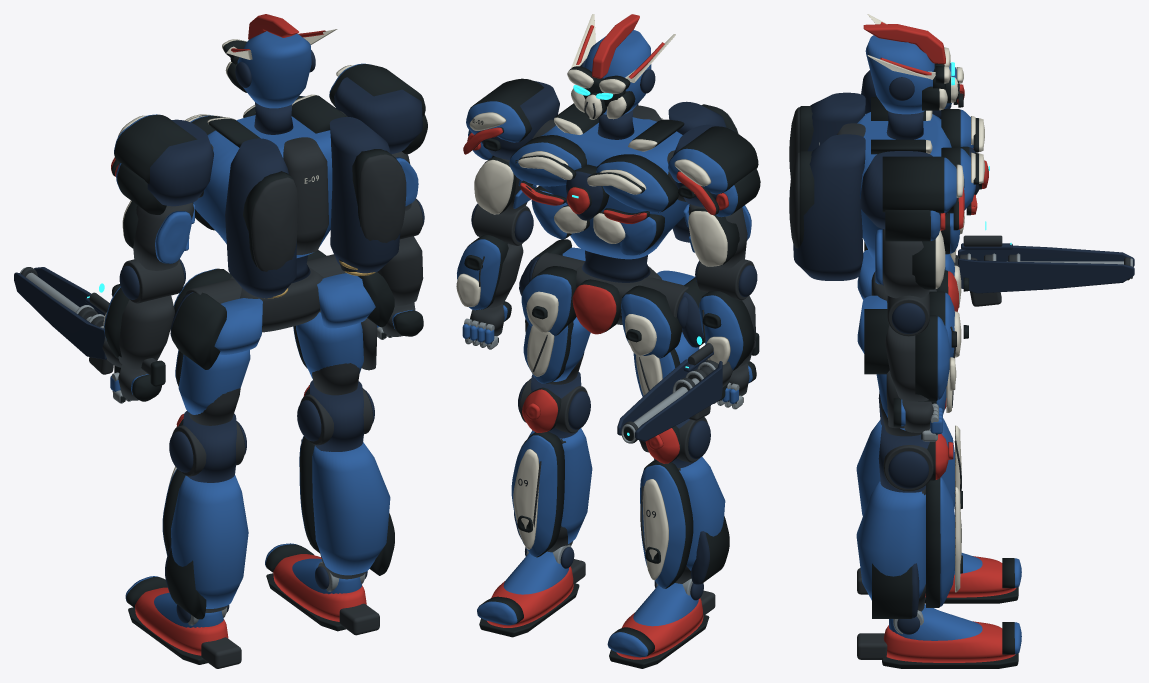
Rendered from Echo9_Hero_V8.glb.
3 views of the same model, side by side, from view 1: azimuth 30°, elevation 25°; view 2: azimuth 150°, elevation 25°; view 3: azimuth 270°, elevation 25° (orthographic). The views are drawn at different scales.
Visible parts, largest first — view 1: Armor_chest, Armor_shin_L, Armor_shin_R, Armor_forearm_R, Armor_shoulder_R, Armor_head, Armor_pelvis, Armor_foot_L, Armor_shoulder_L, Armor_foot_R, Armor_thigh_L, Armor_thigh_R (+7 smaller); view 2: Armor_chest, Armor_shin_R, Armor_shin_L, Armor_forearm_R, Armor_head, Armor_shoulder_R, Armor_foot_L, Armor_foot_R, Armor_forearm_L, Armor_shoulder_L, Armor_pelvis, Armor_skirt_R (+7 smaller); view 3: Armor_chest, Armor_shin_L, Armor_forearm_R, Armor_shoulder_L, Armor_head, Armor_foot_L, Armor_forearm_L, Armor_upper_arm_L, Armor_foot_R, Armor_skirt_L, Armor_shin_R, Armor_pelvis (+3 smaller).
Part boxes in pixels (x1,y1,x2,y2): Armor_chest: [184, 94, 406, 298]; Armor_shin_L: [297, 380, 394, 579]; Armor_shin_R: [162, 411, 248, 619]; Armor_forearm_R: [14, 259, 185, 386]; Armor_shoulder_R: [111, 114, 213, 214]; Armor_head: [222, 14, 337, 134]; Armor_pelvis: [214, 255, 375, 354]; Armor_foot_L: [265, 543, 379, 635]; Armor_shoulder_L: [329, 63, 427, 154]; Armor_foot_R: [125, 576, 241, 668]; Armor_thigh_L: [293, 254, 377, 395]; Armor_thigh_R: [175, 279, 250, 425]; Armor_chest: [509, 101, 738, 259]; Armor_shin_R: [639, 417, 729, 588]; Armor_shin_L: [511, 372, 592, 557]; Armor_forearm_R: [617, 259, 759, 443]; Armor_head: [567, 14, 675, 139]; Armor_shoulder_R: [668, 124, 760, 217]; Armor_foot_L: [477, 544, 585, 637]; Armor_foot_R: [607, 578, 715, 668]; Armor_forearm_L: [456, 203, 533, 310]; Armor_shoulder_L: [463, 78, 559, 159]; Armor_pelvis: [562, 247, 694, 334]; Armor_skirt_R: [621, 277, 707, 358]; Armor_chest: [789, 92, 989, 280]; Armor_shin_L: [856, 424, 962, 618]; Armor_forearm_R: [950, 221, 1134, 306]; Armor_shoulder_L: [860, 151, 964, 241]; Armor_head: [863, 14, 959, 139]; Armor_foot_L: [857, 604, 1021, 668]; Armor_forearm_L: [885, 294, 956, 401]; Armor_upper_arm_L: [875, 229, 945, 298]; Armor_foot_R: [857, 553, 1021, 603]; Armor_skirt_L: [864, 291, 968, 374]; Armor_shin_R: [856, 392, 962, 515]; Armor_pelvis: [857, 250, 958, 353].
Size of the model in its own units: 3.54 by 6.86 by 3.58.
